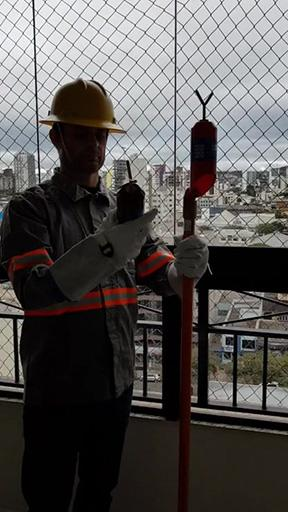Detector_Tensao_Contato: (190, 89, 218, 197), (115, 161, 146, 242)
Vara_Manobra: (174, 193, 195, 512)
